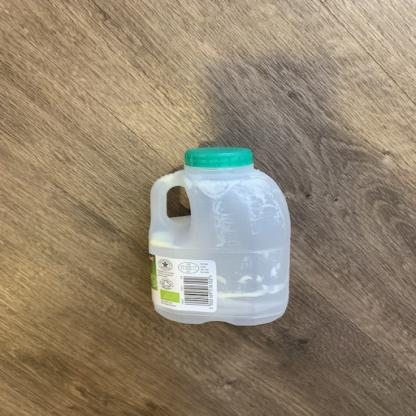trash: (142, 145, 297, 329)
